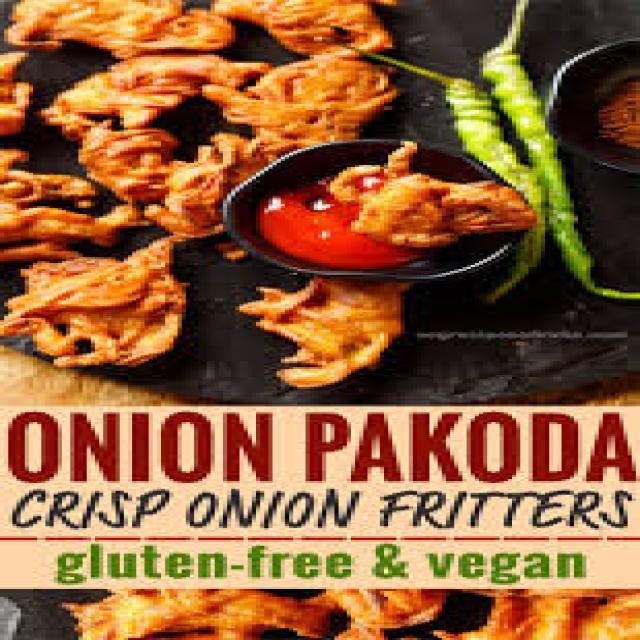BAJI: (0, 4, 418, 376)
